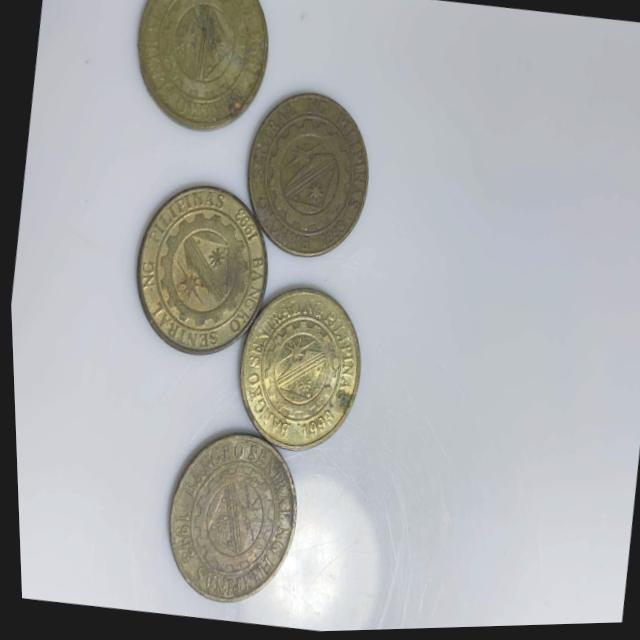25Cent_Old_Back: (153, 433, 300, 604), (128, 186, 273, 358), (229, 287, 367, 464), (239, 91, 375, 258), (125, 0, 275, 139)
